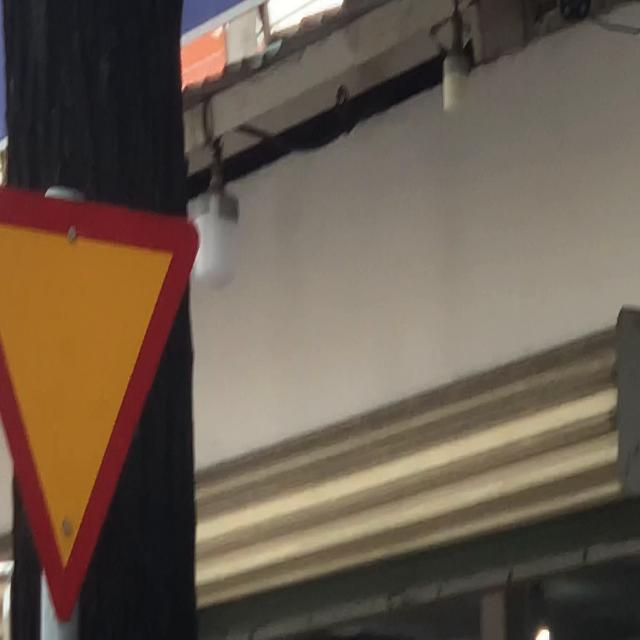Giao voi duong uu tien: (0, 179, 203, 626)
